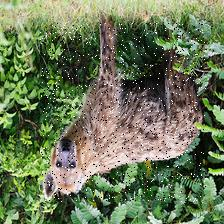hyena: (41, 23, 207, 202)
